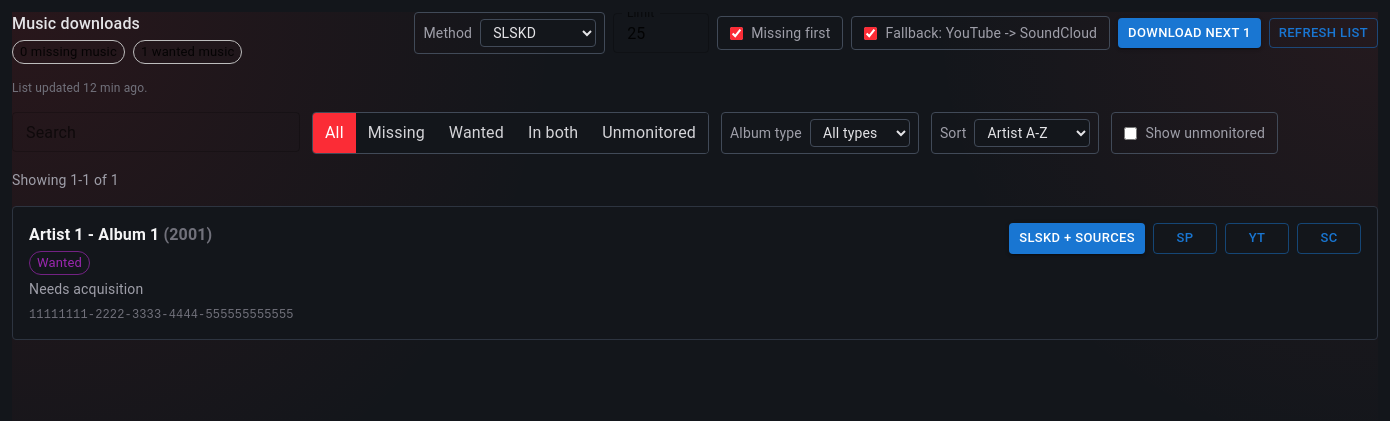
Find Music refresh › a failed refresh says the list is unchanged
The image size is (1390, 421).
Click the button "Refresh list" at [1323, 33], box [1269,18,1378,48]
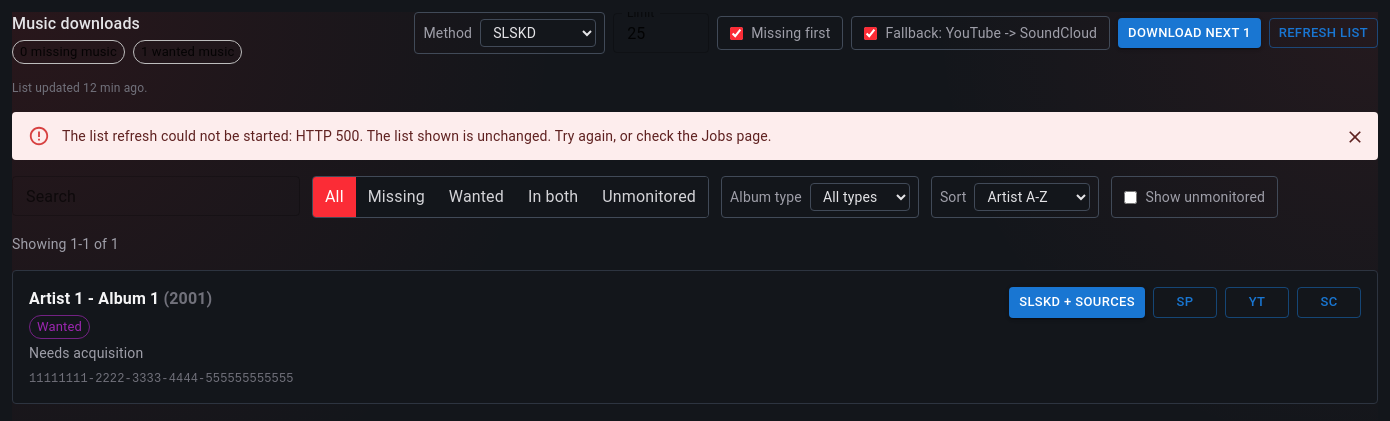
Expected: the text "refresh could not be started: HTTP 500. The list shown is unchanged" is shown, [62,128,772,144]
